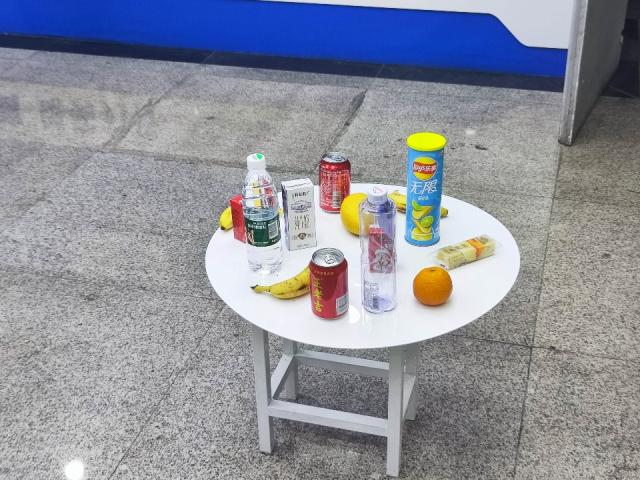Canned_drinks: (311, 247, 351, 326), (321, 153, 351, 210)
bottle: (360, 188, 403, 323), (240, 148, 286, 273)
cylinder: (402, 131, 443, 245)
drink_box: (284, 180, 322, 257)
